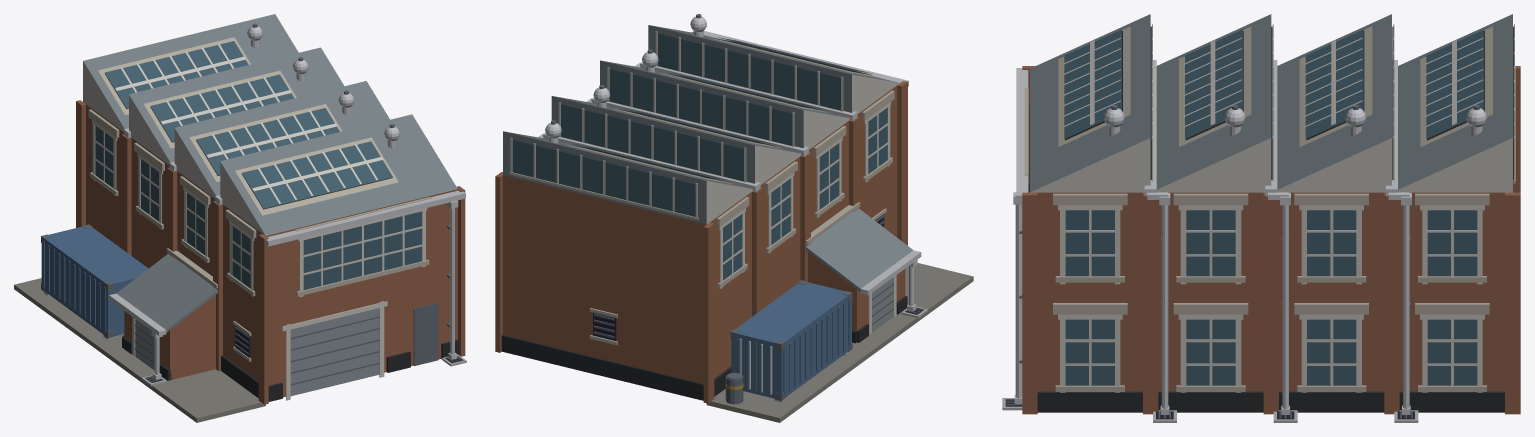
File: industrial_factory_lvl1.glb
3 views of the same model, side by side, from view 1: azimuth 30°, elevation 25°; view 2: azimuth 150°, elevation 25°; view 3: azimuth 270°, elevation 25° (orthographic). The views are drawn at different scales.
Parts seen in each view (by area): view 1: industrial_factory, industrial_factory_Glass; view 2: industrial_factory, industrial_factory_Glass; view 3: industrial_factory, industrial_factory_Glass.
Part boxes in pixels (x1,y1,x2,y2): industrial_factory: [14, 14, 466, 422]; industrial_factory_Glass: [95, 41, 421, 289]; industrial_factory: [495, 14, 973, 422]; industrial_factory_Glass: [512, 33, 887, 280]; industrial_factory: [1002, 14, 1520, 422]; industrial_factory_Glass: [1028, 26, 1514, 385].
Bounding box in the file's own units: 0.5292 × 0.3948 × 0.6404.
